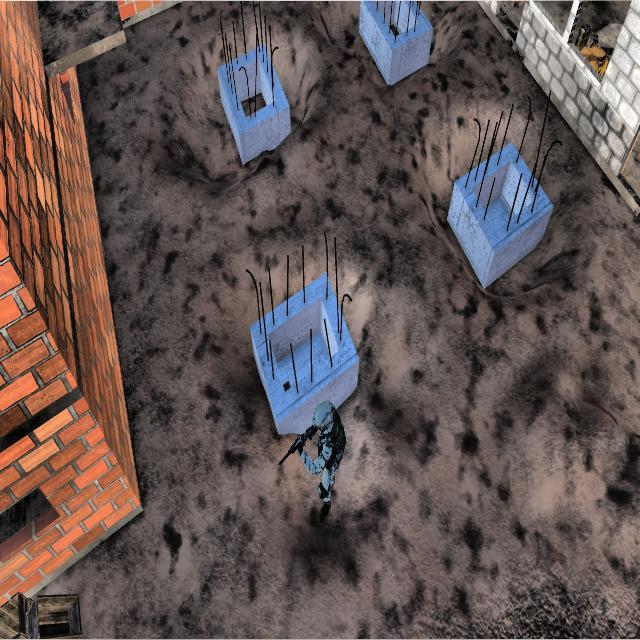bad: (288, 394, 354, 526)
